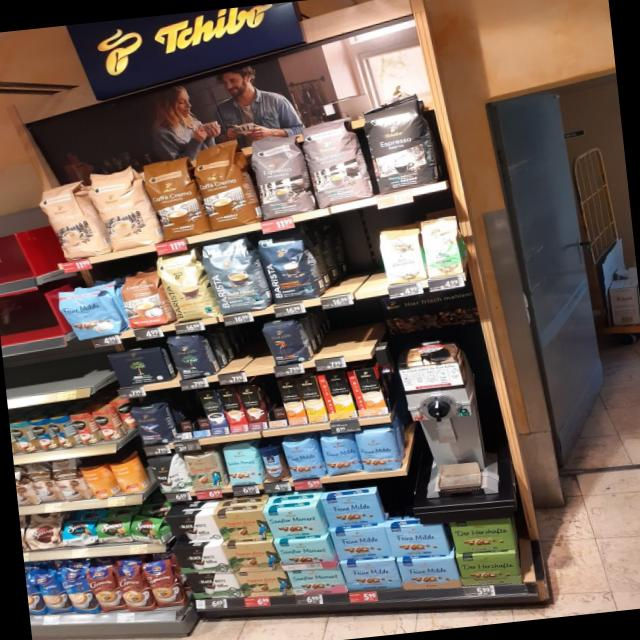Athiopien Bohne: (419, 212, 468, 280)
Athiopien Gemahlen: (375, 219, 429, 287)
BM Bohne: (164, 331, 220, 383)
BM Gemahlen: (105, 347, 173, 389)
BW Bohne: (146, 454, 192, 494)
BW Gemahlen: (184, 568, 242, 603), (172, 542, 228, 578), (166, 512, 220, 546)
Barista CB: (155, 248, 218, 322)
Barista CC: (200, 237, 272, 315)
Barista Espresso: (255, 231, 319, 305)
C Fino Bohne: (130, 404, 174, 448)
CC Mild: (84, 164, 154, 251), (36, 179, 108, 263)
CC Vollmundig: (119, 267, 173, 330)
CC Vollmundig 36 Pads: (190, 142, 257, 232), (140, 156, 204, 241)
Colombia BB Bohne: (182, 449, 228, 492)
Colombia BB Gemahlen: (212, 506, 273, 544), (224, 536, 278, 576), (236, 566, 292, 600)
Empty Shelf: (313, 217, 386, 298), (314, 308, 382, 355), (216, 324, 270, 370), (256, 380, 286, 421), (165, 394, 192, 433), (182, 392, 209, 430)
Espresso Aromatisch: (298, 118, 374, 205), (244, 130, 314, 220)
Espresso Kraftig: (361, 96, 442, 196)
FM 36 Pads: (56, 280, 128, 345)
FM Bohne: (356, 428, 401, 473), (282, 437, 326, 482), (320, 432, 360, 476)
FM Gemahlen: (318, 492, 386, 530), (384, 520, 450, 558), (340, 556, 402, 595), (396, 554, 459, 592), (329, 526, 392, 564)
FM Instant: (260, 442, 288, 483)
Herzhatfe Mundig: (454, 548, 526, 590), (450, 514, 518, 556)
LG Bohne: (260, 318, 314, 367)
SM Bohne: (222, 443, 264, 488)
SM Gemahlen: (274, 536, 336, 574), (262, 504, 325, 541), (285, 565, 346, 600)
Simo CCMild: (316, 372, 358, 420)
Simo CCMild bigpack: (296, 376, 327, 423)
Simo CCVollmundig: (346, 367, 389, 415)
Simo CCVollmundig bigpack: (276, 378, 307, 426)
Simo Es Brazil: (218, 386, 248, 433)
Simo Es Caramel: (237, 385, 268, 430)
Simo Es Kraft: (197, 390, 229, 435)
